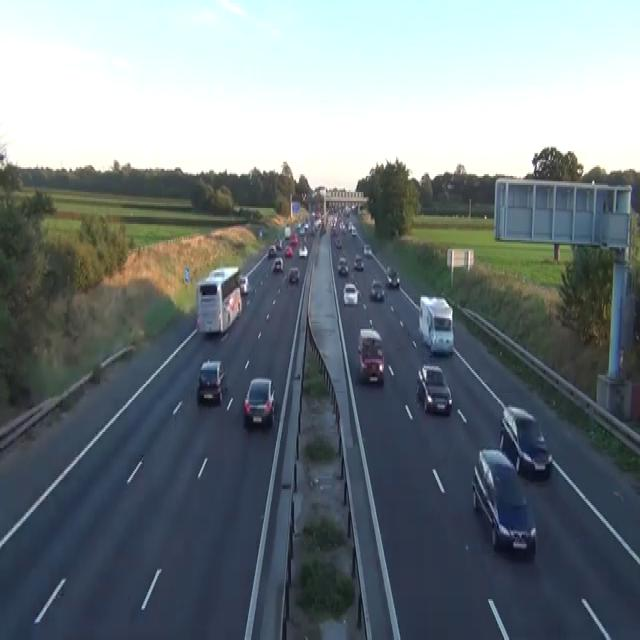Car: (471, 448, 536, 558), (498, 406, 552, 478), (416, 364, 452, 416), (243, 377, 276, 427), (357, 327, 384, 382), (197, 359, 225, 404), (342, 282, 359, 306), (369, 278, 385, 300), (386, 267, 400, 288), (337, 256, 348, 276), (238, 274, 249, 293), (91, 363, 101, 382), (353, 252, 363, 270), (288, 266, 299, 282), (272, 256, 283, 272), (298, 244, 308, 258), (284, 245, 293, 258), (275, 236, 283, 249), (268, 245, 276, 258), (363, 244, 371, 256), (290, 233, 298, 245), (335, 236, 342, 249), (339, 220, 345, 233), (342, 206, 349, 217), (446, 182, 455, 190), (314, 219, 321, 229), (298, 224, 304, 235), (320, 224, 326, 235), (351, 202, 357, 212), (347, 221, 353, 231), (351, 226, 356, 236), (330, 226, 335, 236), (258, 228, 262, 236)
Truck: (195, 265, 242, 334), (418, 295, 454, 356)
